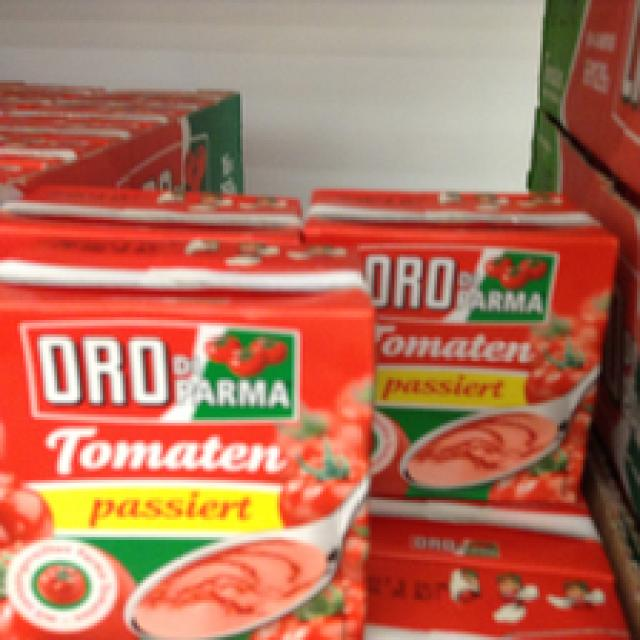groceries: (0, 228, 374, 637), (306, 177, 617, 506)
